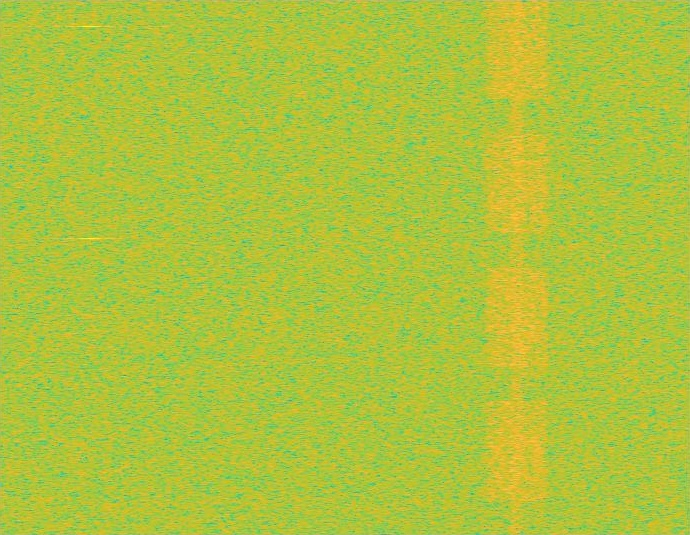5G: (483, 0, 552, 534)
DSSS: (510, 0, 525, 534)
Radar: (83, 0, 97, 534)
